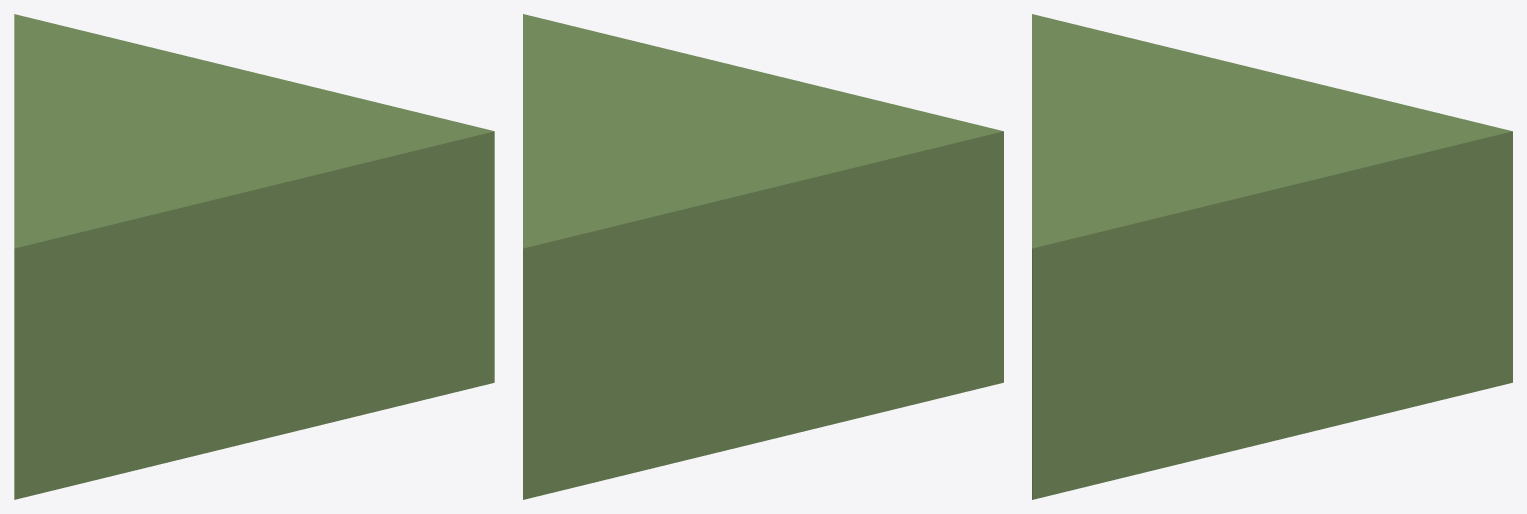
The model's file is tri_3_grassland_grassland_grassland.glb.
3 views of the same model, side by side, from view 1: azimuth 30°, elevation 25°; view 2: azimuth 150°, elevation 25°; view 3: azimuth 270°, elevation 25° (orthographic).
Parts seen in each view (by area): view 1: tri_3_grassland_grassland_grassland; view 2: tri_3_grassland_grassland_grassland; view 3: tri_3_grassland_grassland_grassland.
Part boxes in pixels (x1,y1,x2,y2): tri_3_grassland_grassland_grassland: [14, 14, 494, 499]; tri_3_grassland_grassland_grassland: [523, 14, 1003, 499]; tri_3_grassland_grassland_grassland: [1032, 14, 1512, 499].
Size of the model in its own units: 1 by 0.5 by 0.8663.
